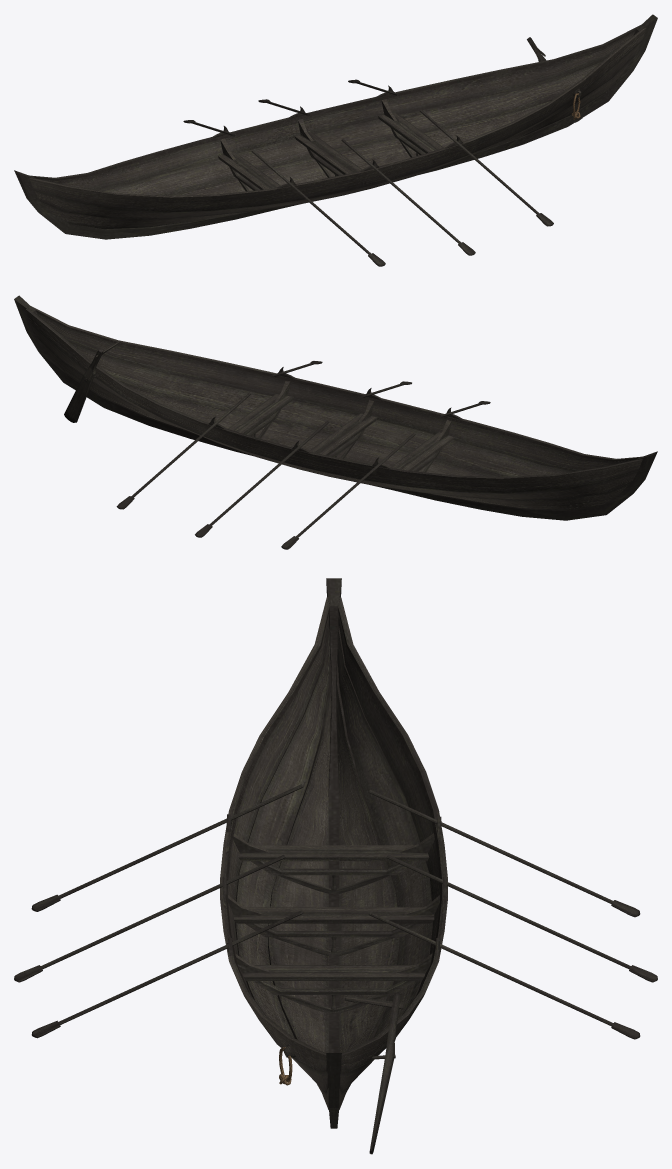
File: Row_Boat.fbx
3 renders of one model, top to bottom at view 1: azimuth 30°, elevation 25°; view 2: azimuth 150°, elevation 25°; view 3: azimuth 270°, elevation 25°, orthographic. The views are drawn at different scales.
Visible parts, largest first — view 1: Boat; view 2: Boat; view 3: Boat.
Boxes of the visible parts, <box> form: Boat: <box>14,14,657,266</box>; Boat: <box>14,295,657,549</box>; Boat: <box>14,578,657,1154</box>.
Bounding box in the file's own units: 605 × 91.71 × 347.
Materials: 1 (1 with a texture image).
